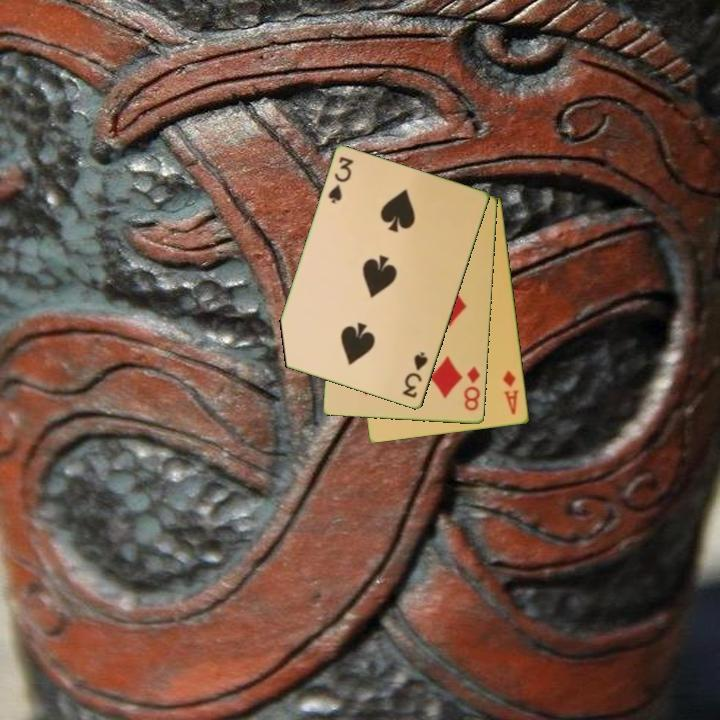3s: (399, 348, 431, 401), (325, 153, 356, 207)
8d: (461, 363, 483, 414)
Ad: (500, 367, 522, 418)
